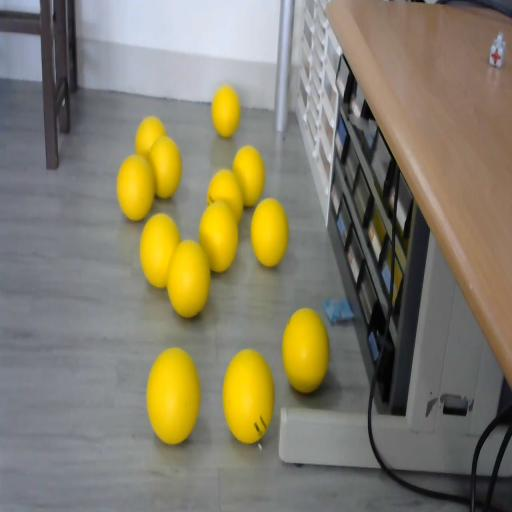FUEL: (146, 346, 201, 444), (222, 347, 274, 443), (282, 307, 330, 393), (166, 240, 211, 318), (198, 200, 240, 272), (250, 196, 289, 268), (116, 154, 154, 220), (148, 135, 182, 199), (232, 145, 266, 206), (211, 85, 240, 137)
